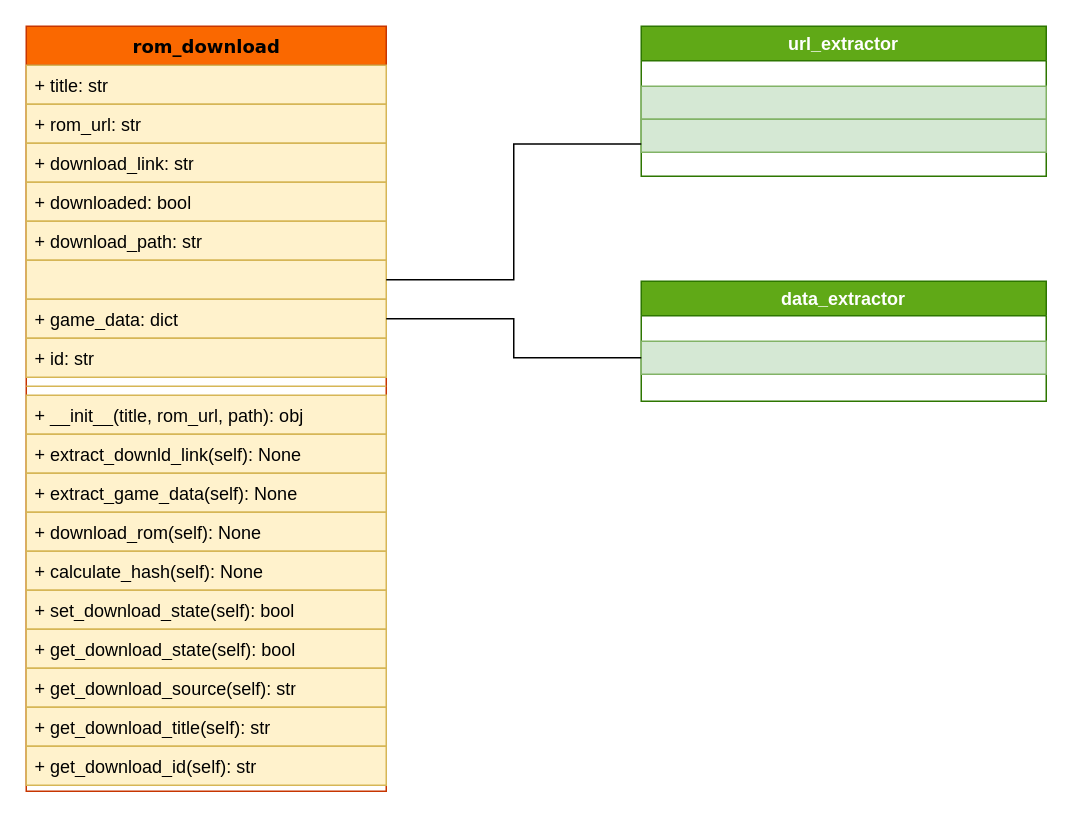
Image size: 1073x818. Some labels were removed from this diagram. Here are the shapes that lost their labels. From the top down, the centre of each, then its label:
At (843,102): "request_page_get(url): bs4_object".
At (843,135): "extract_download_link(bs4_object): str".
At (205,279): "+ page_bs4: obj".
At (843,357): "extract_game_data(bs4_object): dict".
